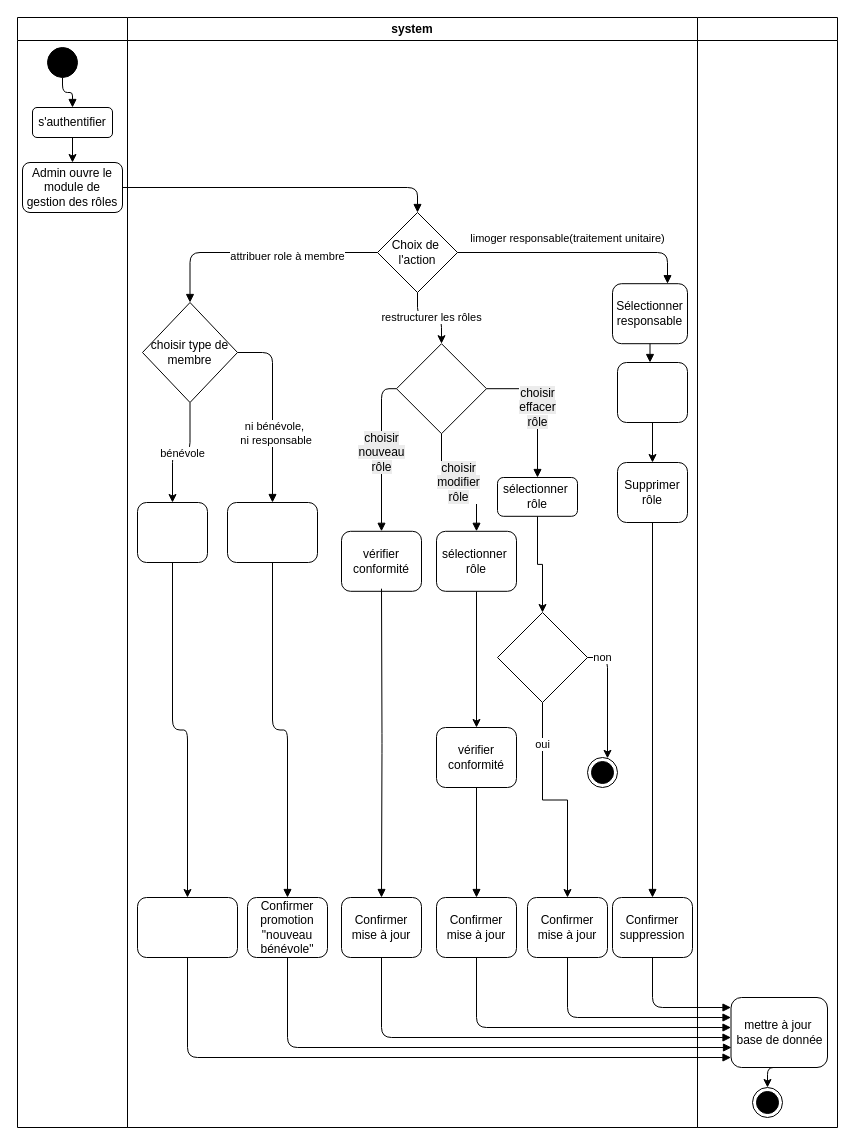
The diagram is 855 pixels wide and 1145 high, and some of its shapes have lost their labels. Each missing label, with the box of its shape:
administrateur: (16, 16, 128, 1128)
choisir bénévole: (136, 502, 208, 562)
choisir membre: (226, 502, 318, 562)
Confirmer promotion "nouveau responsable": (136, 896, 238, 958)
crud "gestion des rôles": (396, 343, 486, 434)
rôle sans responsable ?: (496, 612, 588, 702)
sql lite: (696, 16, 838, 1128)
sélectionner role: (616, 362, 688, 422)
